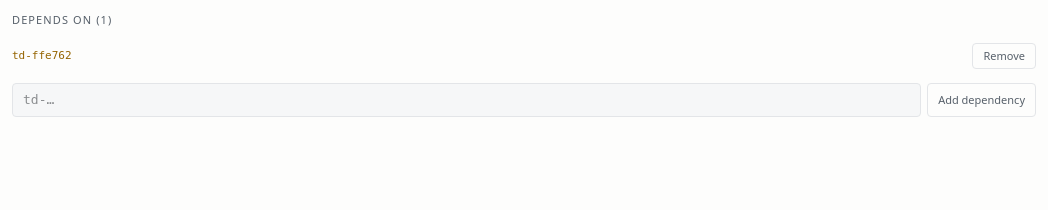
Scenario: DependencyPanel › shows the fresh remove error, not a stale add error, when both fail
Type "td-6a0883" into the dropdown named "Depends on". click: (467, 100)
box: [12,83,921,116]
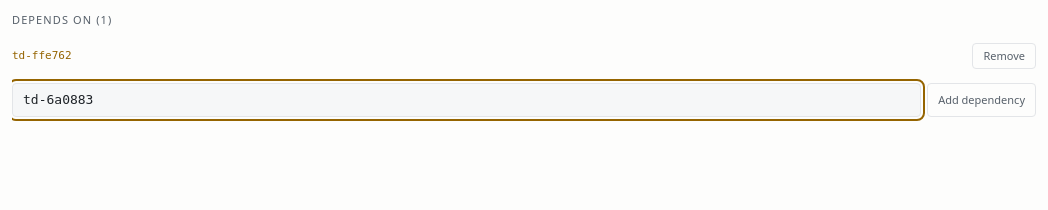
Click the button "Add dependency". click: (982, 100)
box: [927,83,1036,116]
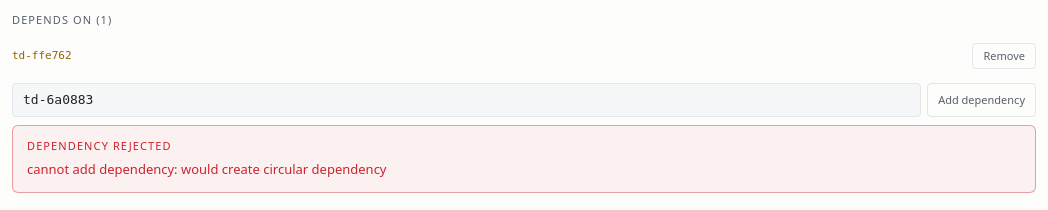
Check: the text "cannot add dependency: would create circular dependency" is shown, box [27,160,386,178]
Click the button with aria-label "Remove td-ffe762". click: (1004, 56)
box: [972,42,1036,69]
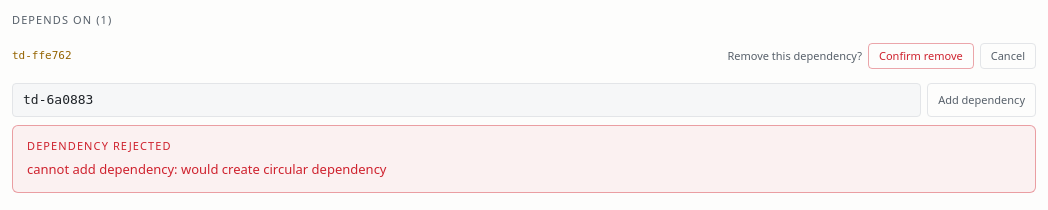
Click the button with aria-label "Confirm remove td-ffe762". click: (921, 56)
box: [868,42,974,69]
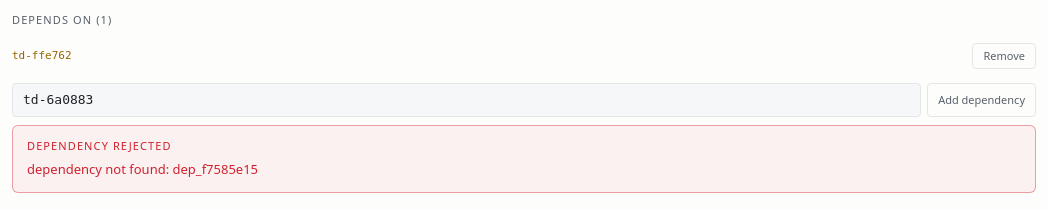
Check: the text "dependency not found: dep_f7585e15" is shown, box [27,160,258,178]
Check: the text "cannot add dependency: would create circular dependency" is gone
